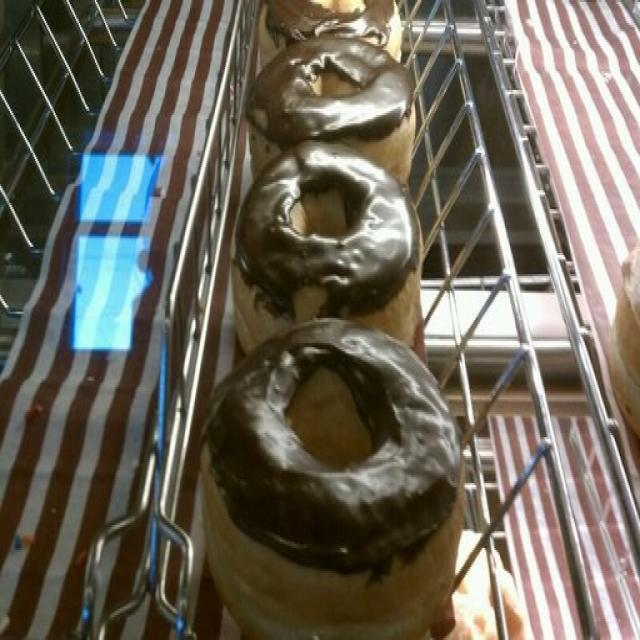Donuts: (194, 2, 473, 640)
